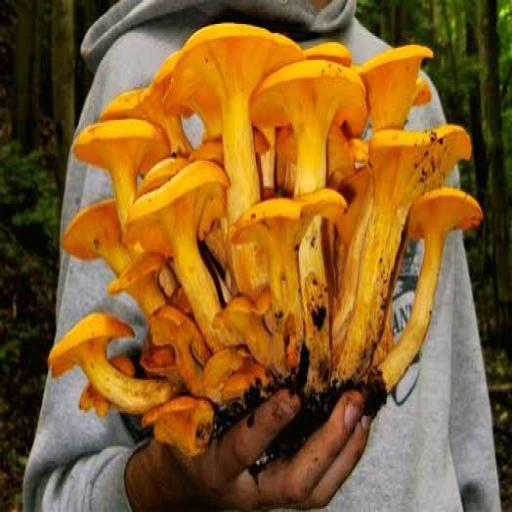Jack O Lantern Mushroom: (344, 121, 471, 392), (151, 20, 300, 230), (229, 185, 351, 371), (380, 190, 481, 387), (126, 156, 234, 338), (247, 48, 368, 207), (49, 309, 175, 420), (73, 108, 172, 234), (340, 29, 441, 137), (93, 78, 190, 159), (143, 299, 213, 395), (60, 193, 141, 270), (208, 288, 278, 365), (140, 398, 210, 461), (105, 250, 170, 312), (195, 350, 257, 409)
